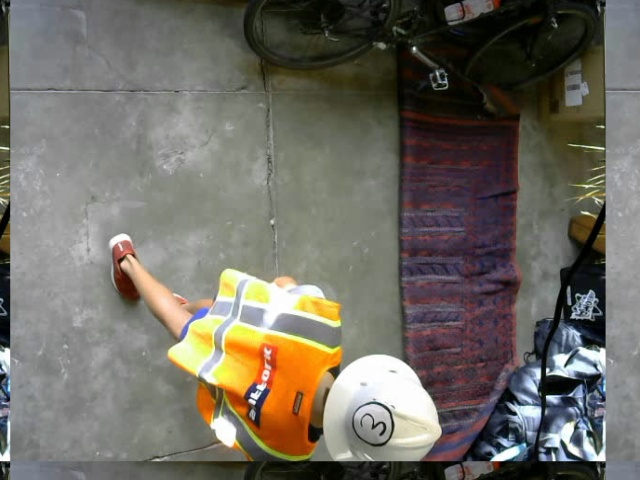three: (351, 400, 393, 446)
